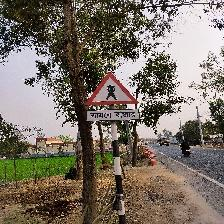Market-in-front: (84, 72, 140, 123)
